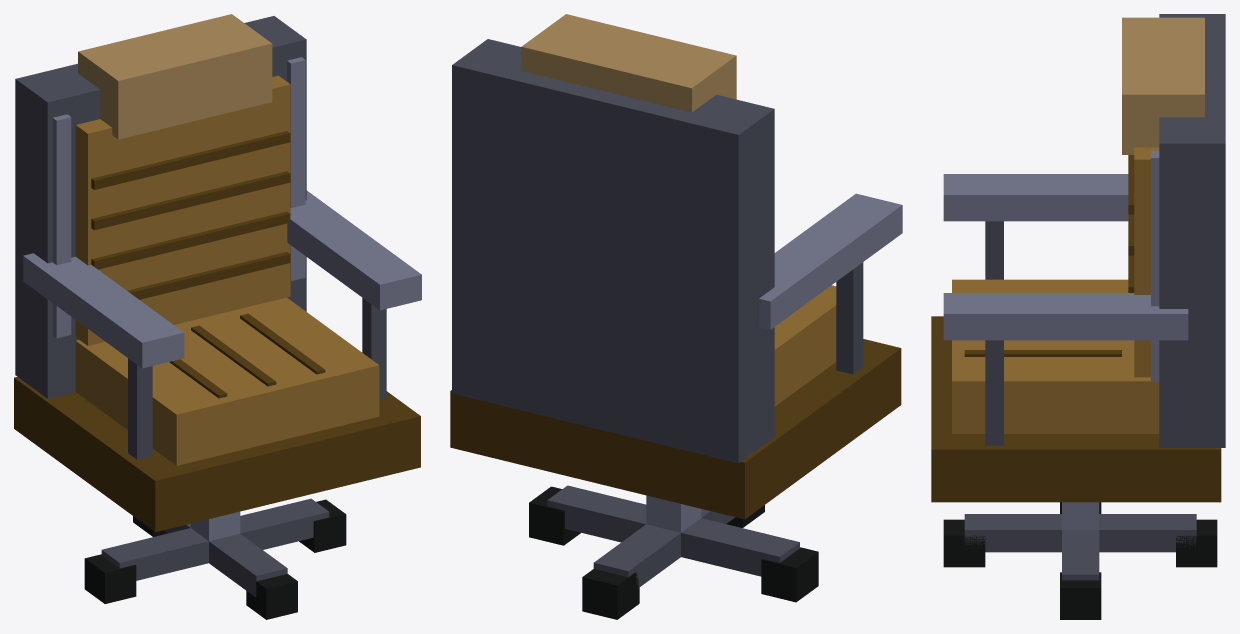
File: CMU3DComfyChairBravo.glb
3 renders of one model, left to right at view 1: azimuth 30°, elevation 25°; view 2: azimuth 150°, elevation 25°; view 3: azimuth 270°, elevation 25°, orthographic. The views are drawn at different scales.
Parts seen in each view (by area): view 1: back cushion, seat cushion, seat base, back shell, headrest, upholstery rib (×4), left arm pad, right arm pad, back edge piping (×2), caster cross X, caster wheel (×3), arm front stanchion (×2) (+3 smaller); view 2: back shell, seat base, headrest, left arm pad, caster cross X, caster wheel (×3), seat cushion, caster cross Y, arm front stanchion, chrome swivel stem; view 3: back shell, seat base, seat cushion, right arm pad, headrest, left arm pad, caster cross Y, caster wheel (×3), back cushion, arm front stanchion (×2), caster cross X, back edge piping (+3 smaller).
Boxes of the visible parts, left/top/right/bottom form: back cushion: left=75, top=75, right=290, bottom=345; seat cushion: left=75, top=297, right=379, bottom=465; seat base: left=14, top=377, right=420, bottom=531; back shell: left=15, top=16, right=306, bottom=398; headrest: left=78, top=14, right=272, bottom=139; upholstery rib (×4): left=91, top=131, right=290, bottom=299; left arm pad: left=23, top=253, right=184, bottom=368; right arm pad: left=287, top=190, right=421, bottom=310; back edge piping (×2): left=52, top=57, right=305, bottom=338; caster cross X: left=101, top=498, right=329, bottom=580; caster wheel (×3): left=84, top=499, right=346, bottom=619; arm front stanchion (×2): left=128, top=298, right=386, bottom=459; back shell: left=452, top=39, right=774, bottom=463; seat base: left=450, top=339, right=901, bottom=519; headrest: left=521, top=14, right=736, bottom=112; left arm pad: left=759, top=193, right=902, bottom=329; caster cross X: left=547, top=485, right=799, bottom=576; caster wheel (×3): left=529, top=486, right=818, bottom=619; seat cushion: left=774, top=285, right=836, bottom=406; caster cross Y: left=593, top=509, right=735, bottom=588; arm front stanchion: left=836, top=262, right=863, bottom=374; chrome swivel stem: left=646, top=495, right=701, bottom=532; back shell: left=1159, top=14, right=1225, bottom=447; seat base: left=931, top=316, right=1221, bottom=502; seat cushion: left=952, top=279, right=1159, bottom=433; right arm pad: left=943, top=293, right=1188, bottom=340; headrest: left=1122, top=17, right=1204, bottom=154; left arm pad: left=943, top=174, right=1128, bottom=221; caster cross Y: left=964, top=514, right=1196, bottom=552; caster wheel (×3): left=943, top=519, right=1217, bottom=619; back cushion: left=1134, top=147, right=1159, bottom=377; arm front stanchion (×2): left=985, top=221, right=1003, bottom=445; caster cross X: left=1062, top=530, right=1099, bottom=580; back edge piping: left=1151, top=150, right=1159, bottom=381.
Size of the model in its own units: 0.8 by 1.34 by 0.71.
